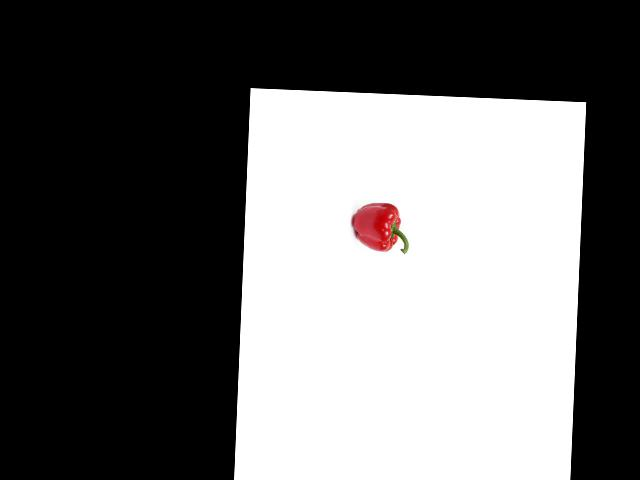bell_pepper: (350, 197, 411, 256)
